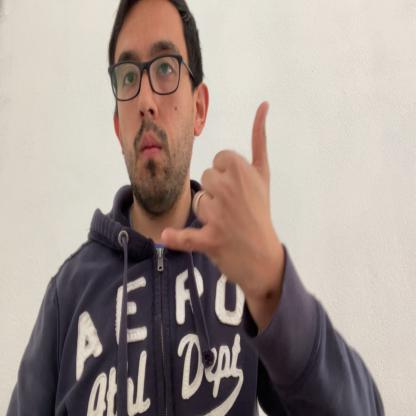Y: (161, 100, 275, 286)
